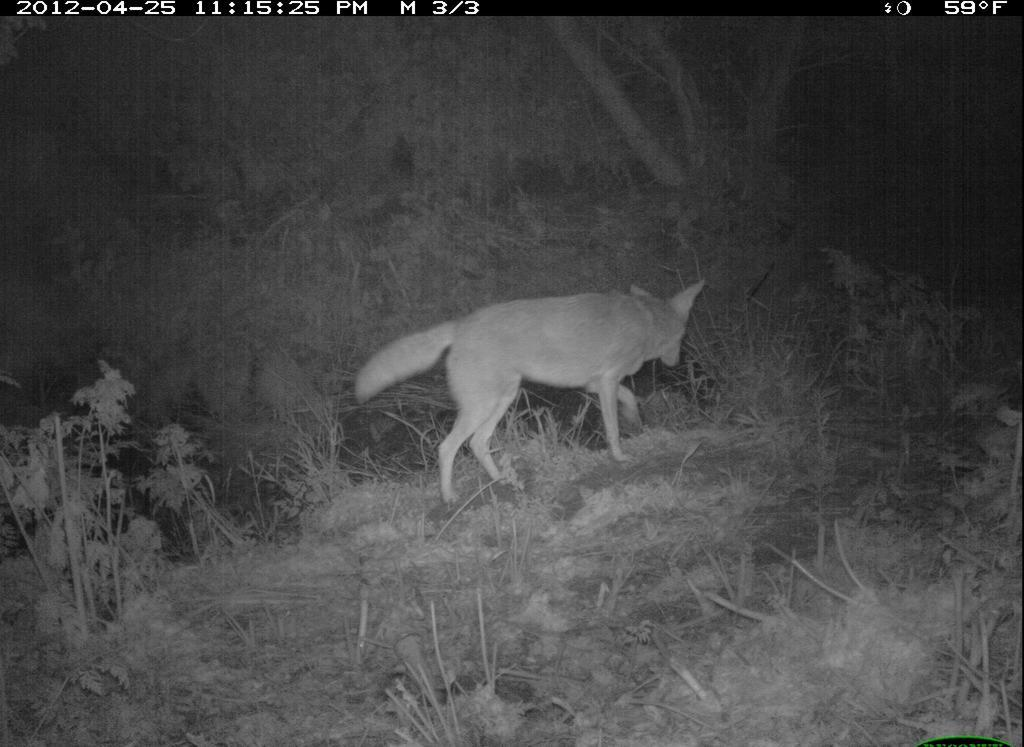coyote: (345, 266, 720, 516)
